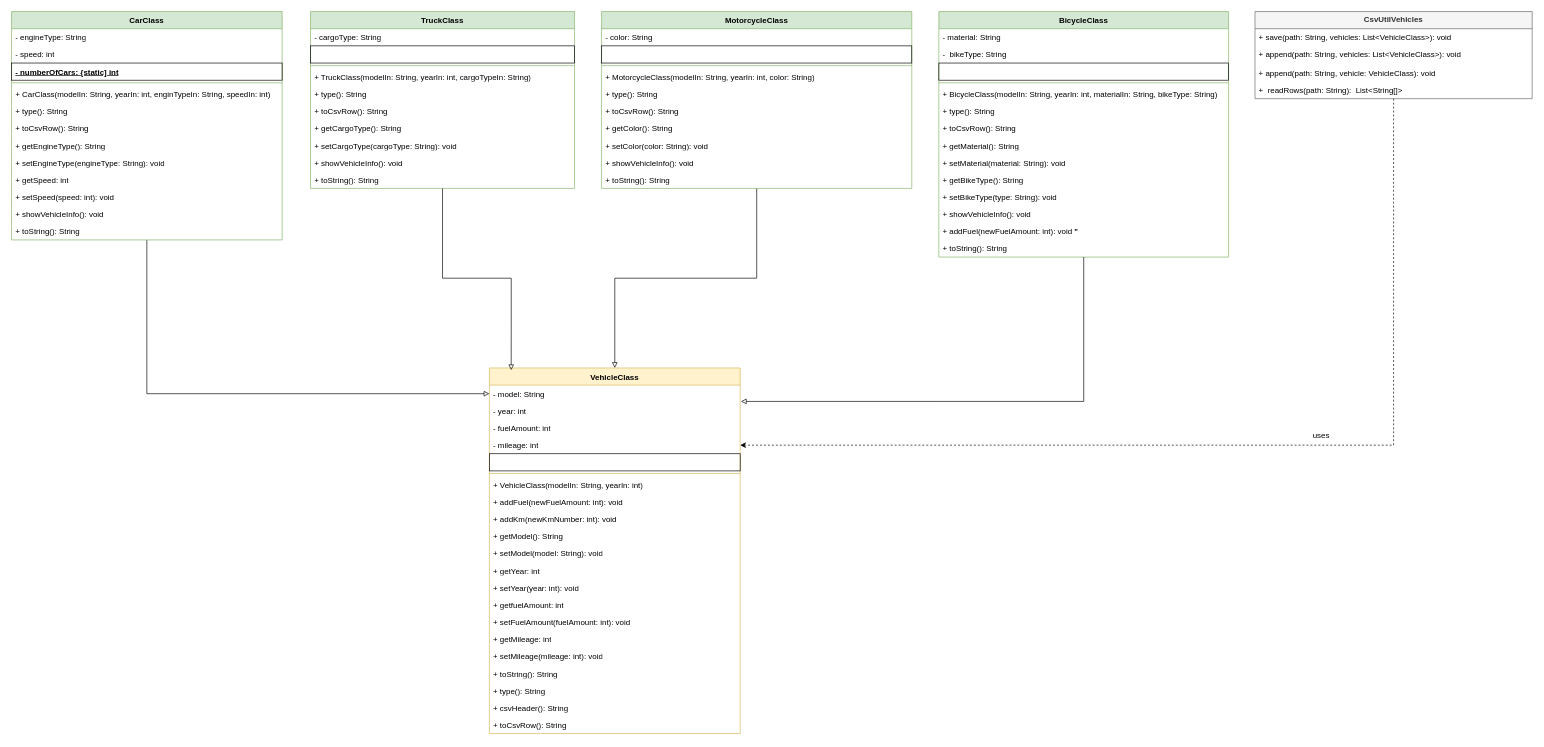
Image size: 1544x747. Some labels were removed from this diagram. The shapes that lost their labels are listed below. From the top down, each one's centre as x and y in pixels, then its label:
At (442,54): "- numberOfTrucks: {static] int".
At (756,54): "- numberOfMotorcycles: {static] int".
At (1083,71): "- numberOfBicycles: {static] int".
At (614,462): "- numberOfVehicles: {static] int".
